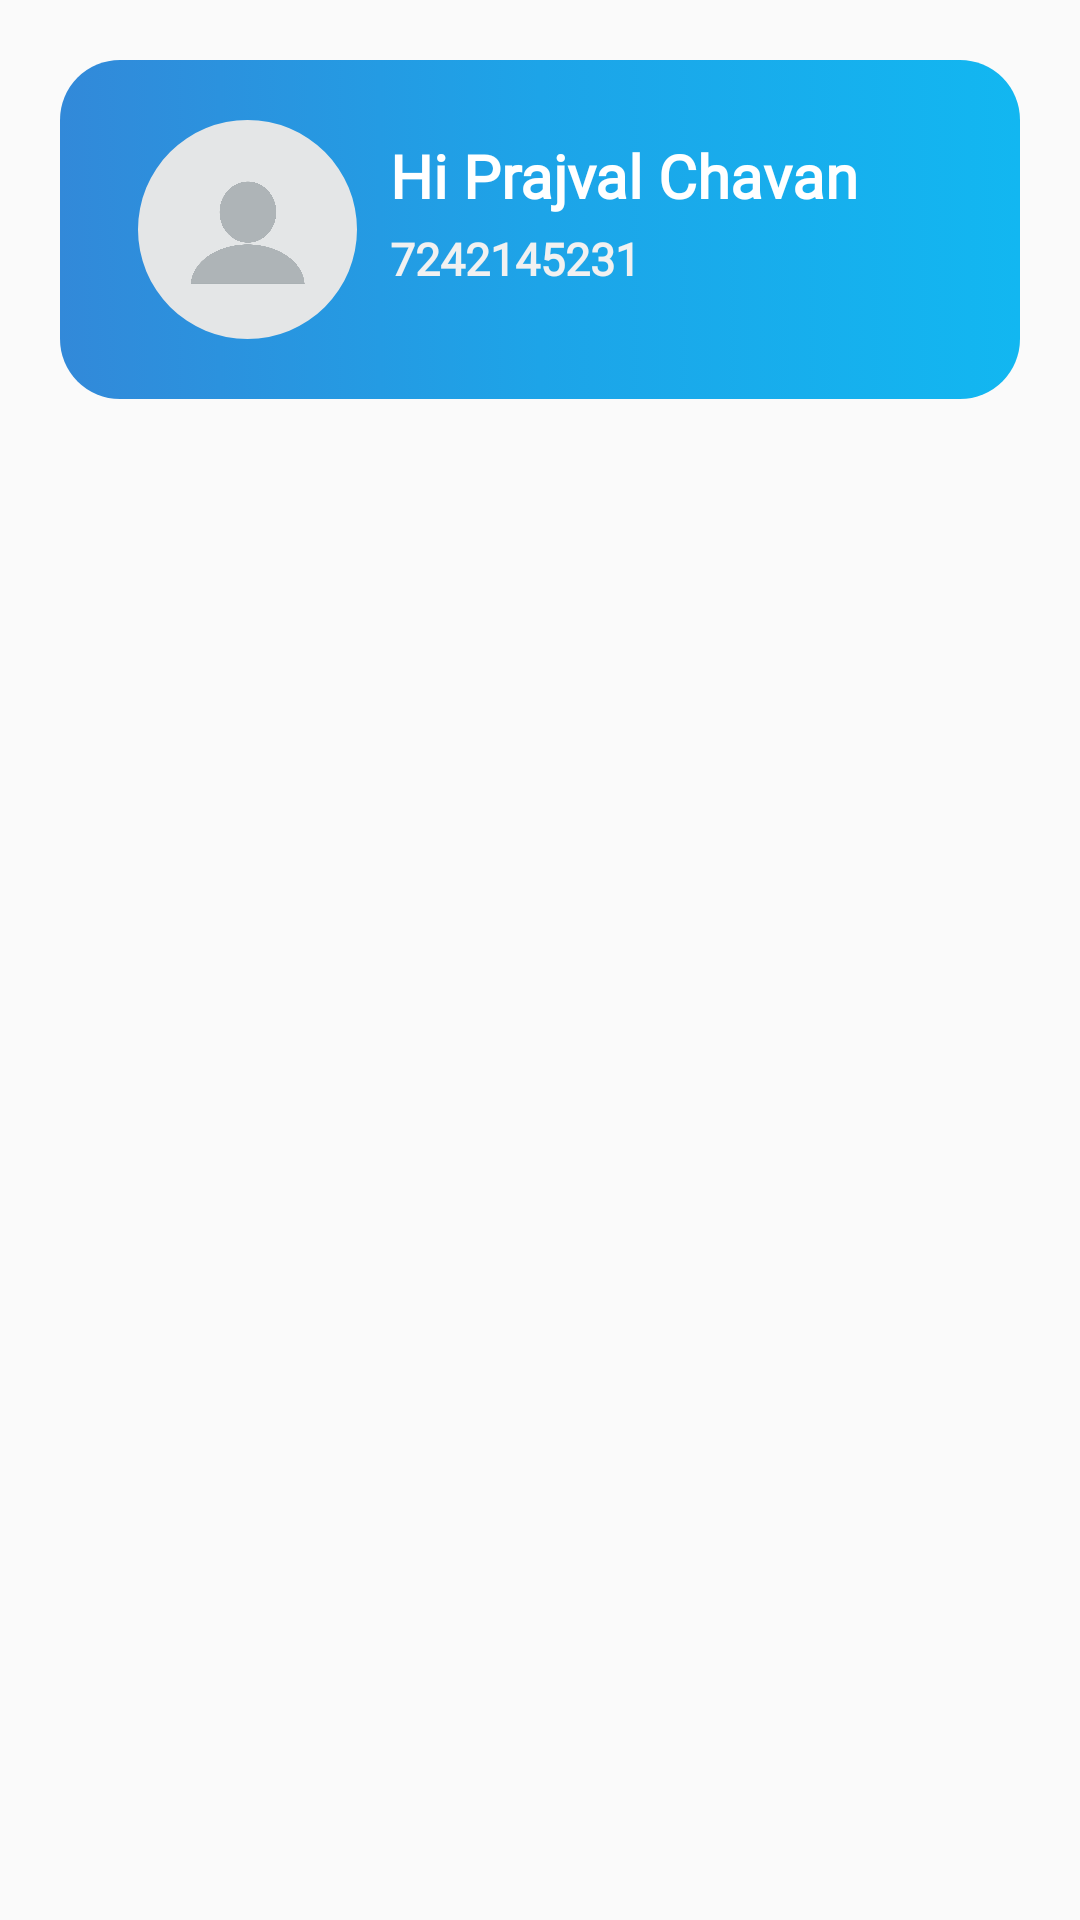

Screen size 1080px×1920px. Icon name, then its center in pixels as [x,y]:
blank profile: [247,229]
